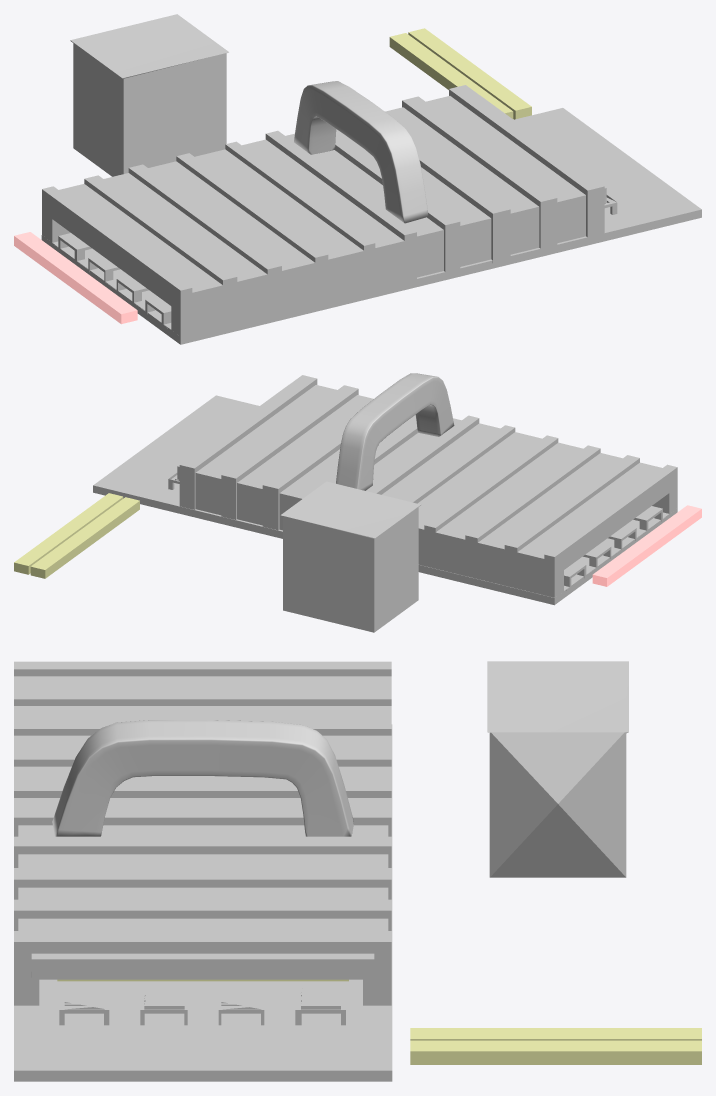
File: bujinlu.glb
The picture shows the model from 3 angles, top to bottom: view 1: azimuth 30°, elevation 25°; view 2: azimuth 150°, elevation 25°; view 3: azimuth 270°, elevation 25°; orthographic projection. The views are drawn at different scales.
Parts seen in each view (by area): view 1: polySurface186, pCube204, pCube5, pTorus1, polySurface199, pCube217, pCube216, polySurface188; view 2: polySurface186, pCube204, pCube5, pTorus1, polySurface199, pCube216, pCube217, polySurface188; view 3: polySurface186, pCube5, pCube204, pTorus1, pCube217, polySurface185, pCube216, polySurface196.
Boxes of the visible parts, <box> form: polySurface186: <box>42,85,606,339</box>; pCube204: <box>70,14,228,176</box>; pCube5: <box>41,108,701,344</box>; pTorus1: <box>294,81,428,223</box>; polySurface199: <box>14,232,137,324</box>; pCube217: <box>408,28,531,119</box>; pCube216: <box>389,33,513,118</box>; polySurface188: <box>54,233,171,328</box>; polySurface186: <box>177,375,677,597</box>; pCube204: <box>281,481,420,632</box>; pCube5: <box>93,395,677,605</box>; pTorus1: <box>336,373,454,490</box>; polySurface199: <box>592,505,701,586</box>; pCube216: <box>30,497,139,578</box>; pCube217: <box>14,493,123,574</box>; polySurface188: <box>564,506,665,590</box>; polySurface186: <box>14,661,391,1005</box>; pCube5: <box>14,724,392,1081</box>; pCube204: <box>487,661,628,877</box>; pTorus1: <box>52,720,353,836</box>; pCube217: <box>410,1040,701,1064</box>; polySurface185: <box>59,981,345,1025</box>; pCube216: <box>410,1028,701,1040</box>; polySurface196: <box>57,979,348,981</box>.
Size of the model in its own units: 11.54 by 2.58 by 8.94.
